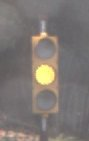Yellow: (23, 25, 66, 125)
